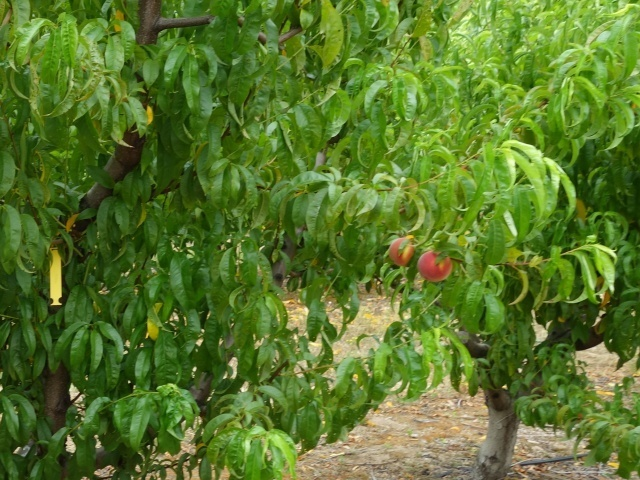peach: (413, 248, 453, 282), (384, 235, 418, 267)
